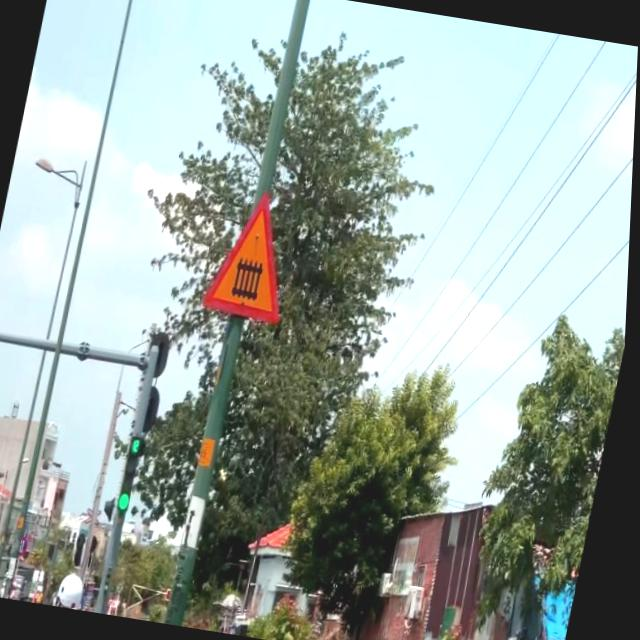Giao nhau voi duong sat co rao chan: (196, 173, 312, 335)
